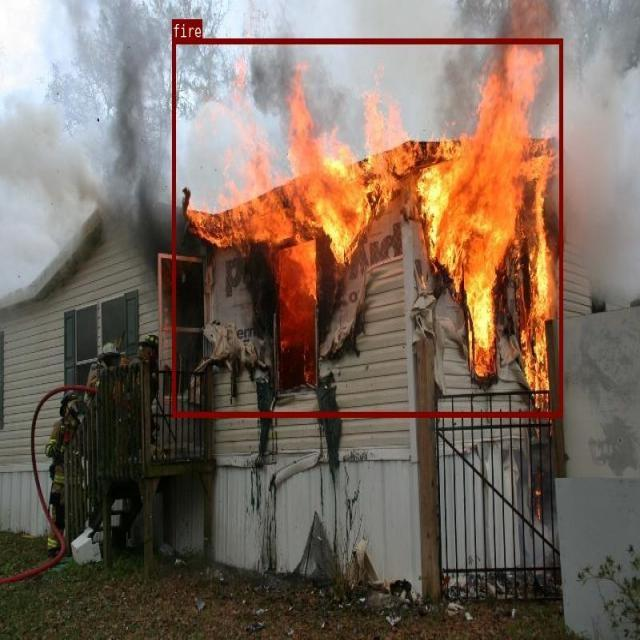fire: (172, 38, 562, 416)
